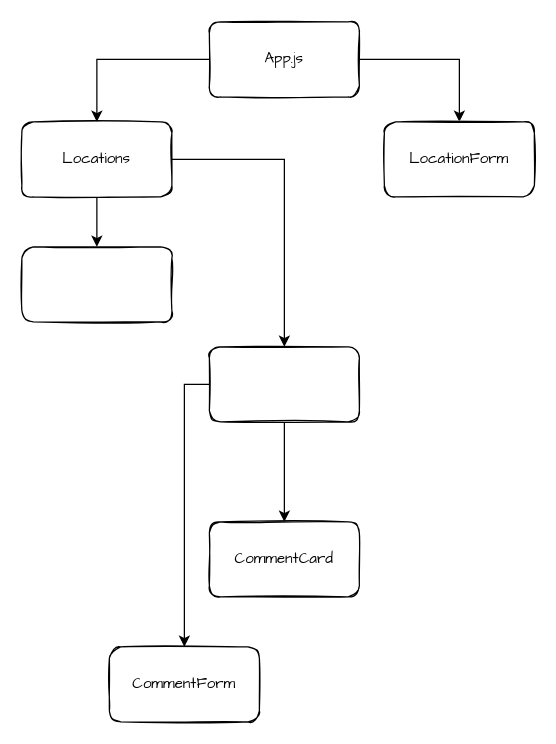
This 556x744 diagram has some shape labels left out. The centre of each missing label's shape, as x and y in pixels:
"Comments" goes at [283,384].
"LocationCard" goes at [96,284].
